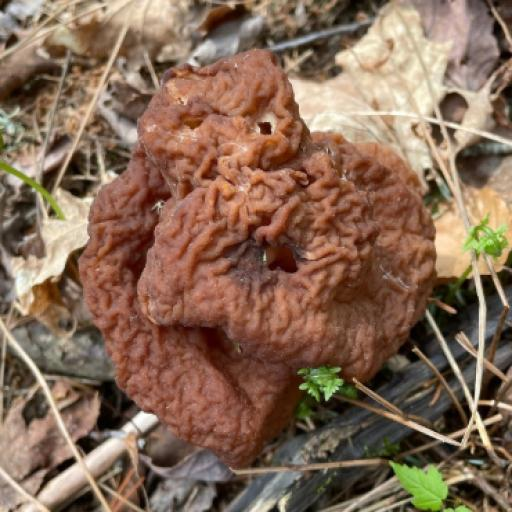mushroom: (80, 51, 428, 467)
